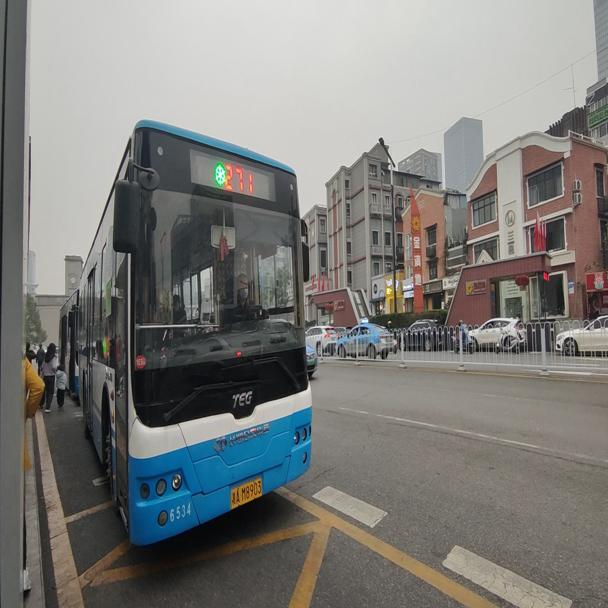bus: (79, 117, 319, 549)
screen: (223, 159, 256, 193)
